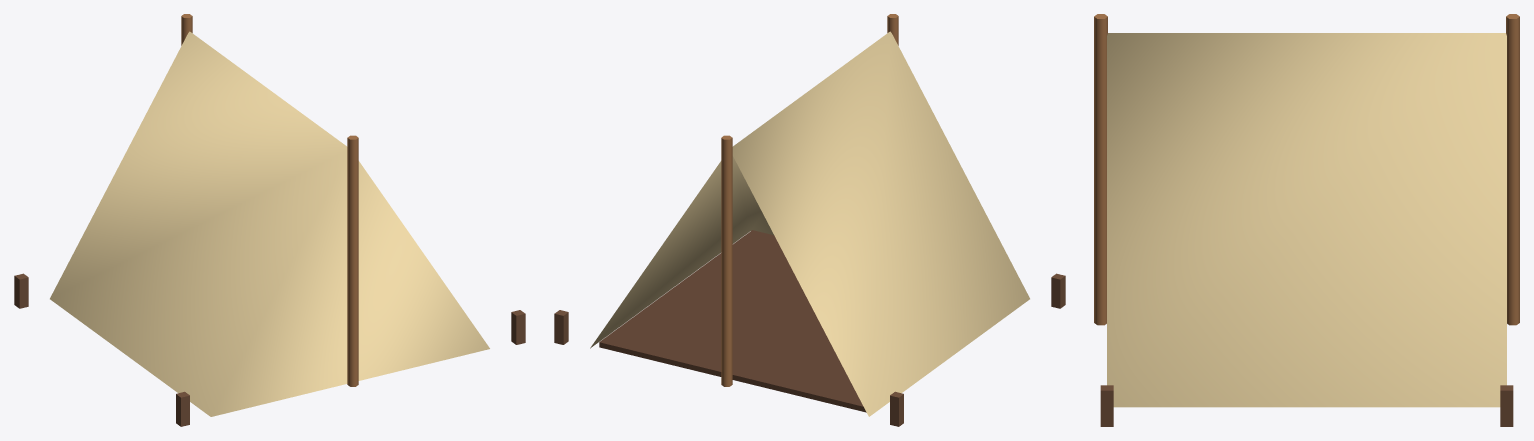
The model's file is canvas-tent.glb.
The picture shows the model from 3 angles, left to right: view 1: azimuth 30°, elevation 25°; view 2: azimuth 150°, elevation 25°; view 3: azimuth 270°, elevation 25°; orthographic projection. The views are drawn at different scales.
Visible parts, largest first — view 1: canvas, pole-1.03, stake-1.2-1, stake--1.2--1; view 2: canvas, groundsheet, pole--1.03, stake-1.2--1, stake--1.2-1; view 3: canvas, pole--1.03, pole-1.03, stake-1.2--1, stake-1.2-1.
Part boxes in pixels (left/top/right/bottom): canvas: left=50, top=31, right=489, bottom=416; pole-1.03: left=347, top=135, right=358, bottom=386; stake-1.2-1: left=511, top=310, right=525, bottom=344; stake--1.2--1: left=14, top=273, right=28, bottom=308; canvas: left=590, top=31, right=1029, bottom=416; groundsheet: left=599, top=230, right=866, bottom=412; pole--1.03: left=721, top=135, right=732, bottom=386; stake-1.2--1: left=554, top=310, right=568, bottom=344; stake--1.2-1: left=1051, top=273, right=1065, bottom=308; canvas: left=1107, top=33, right=1506, bottom=407; pole--1.03: left=1506, top=14, right=1519, bottom=325; pole-1.03: left=1094, top=14, right=1107, bottom=325; stake-1.2--1: left=1500, top=385, right=1513, bottom=426; stake-1.2-1: left=1100, top=385, right=1113, bottom=426.
Size of the model in its own units: 2.46 by 1.69 by 2.13.
